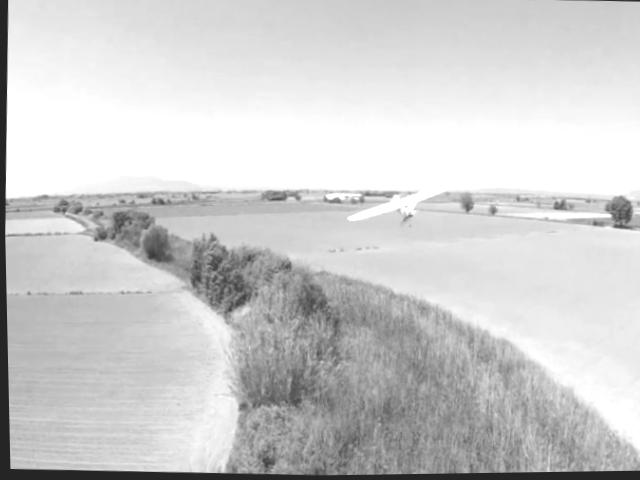hedef: (340, 170, 458, 246)
